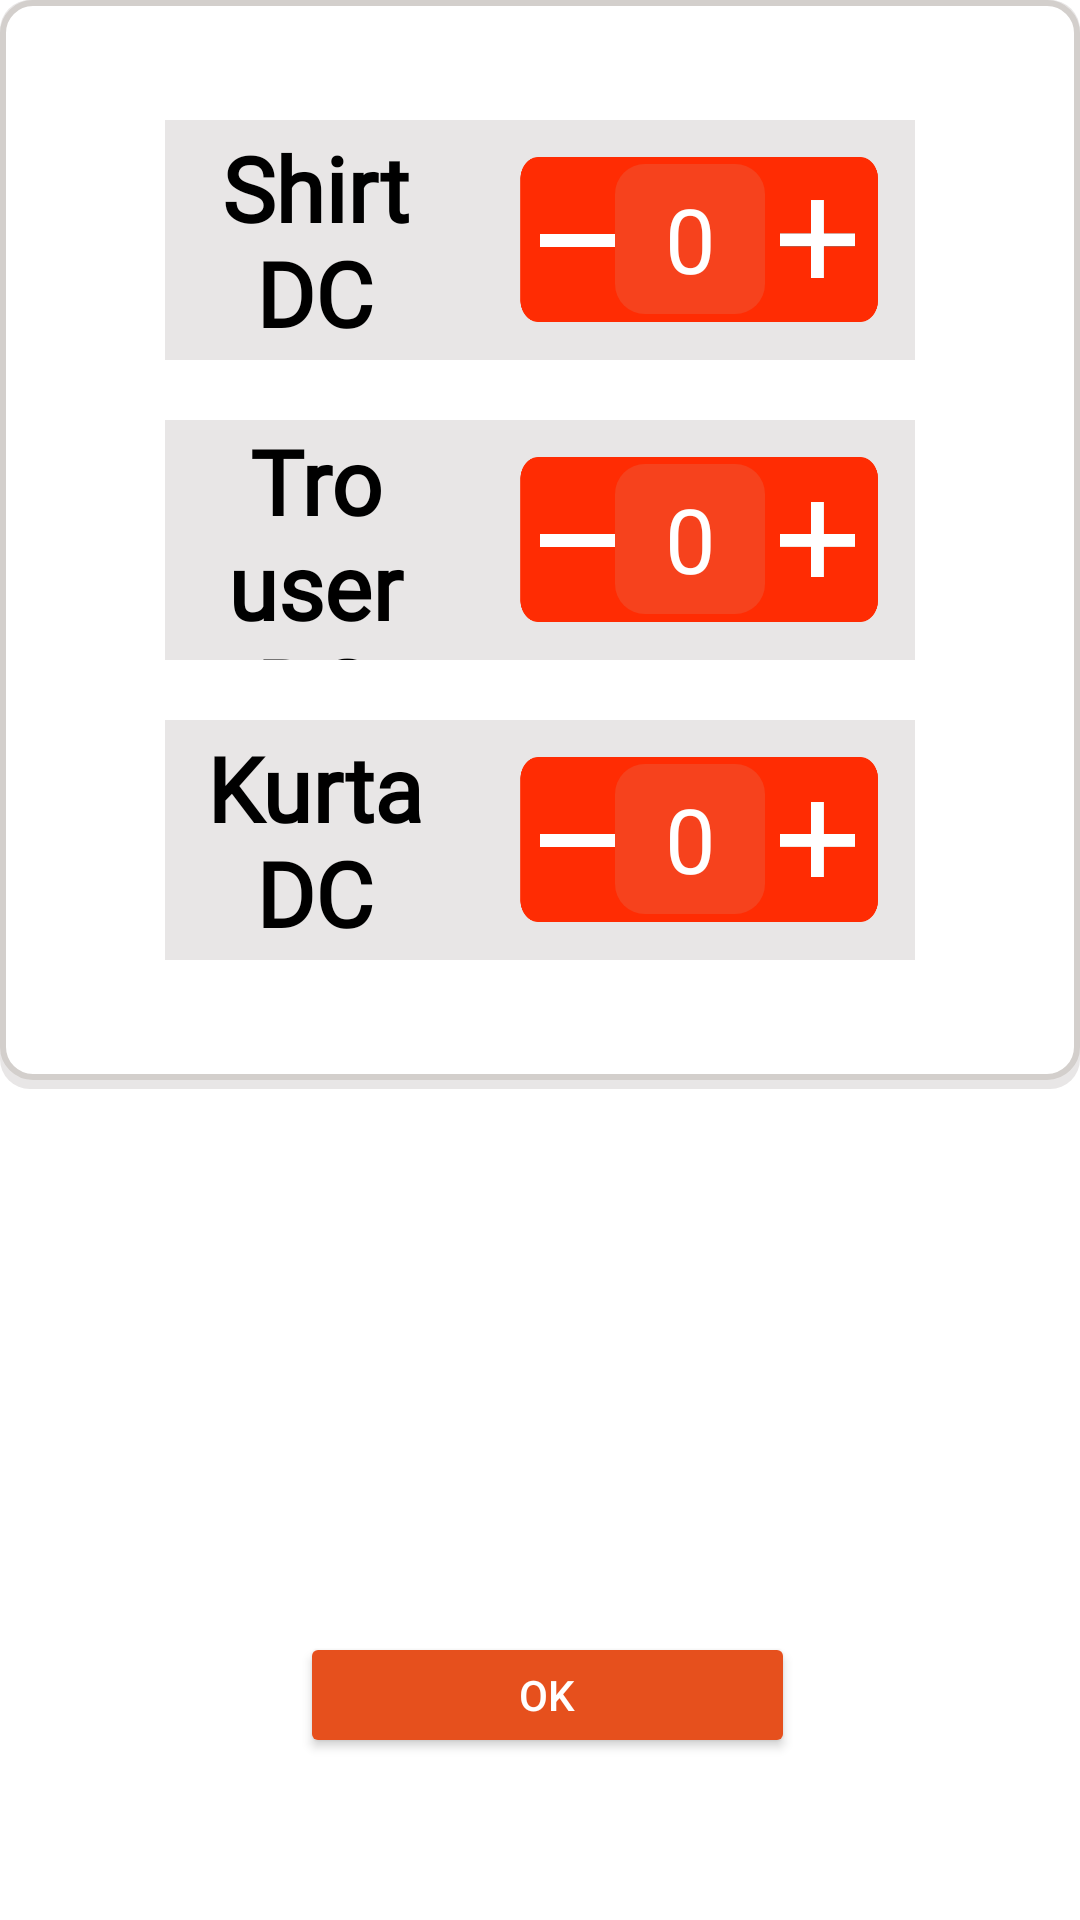

Icons on this 1080w x 1920h Android screen, each with its box as BBox(x1, y1, x2, y2):
plus: BBox(780, 200, 855, 278), BBox(780, 502, 855, 577), BBox(780, 802, 855, 877)
